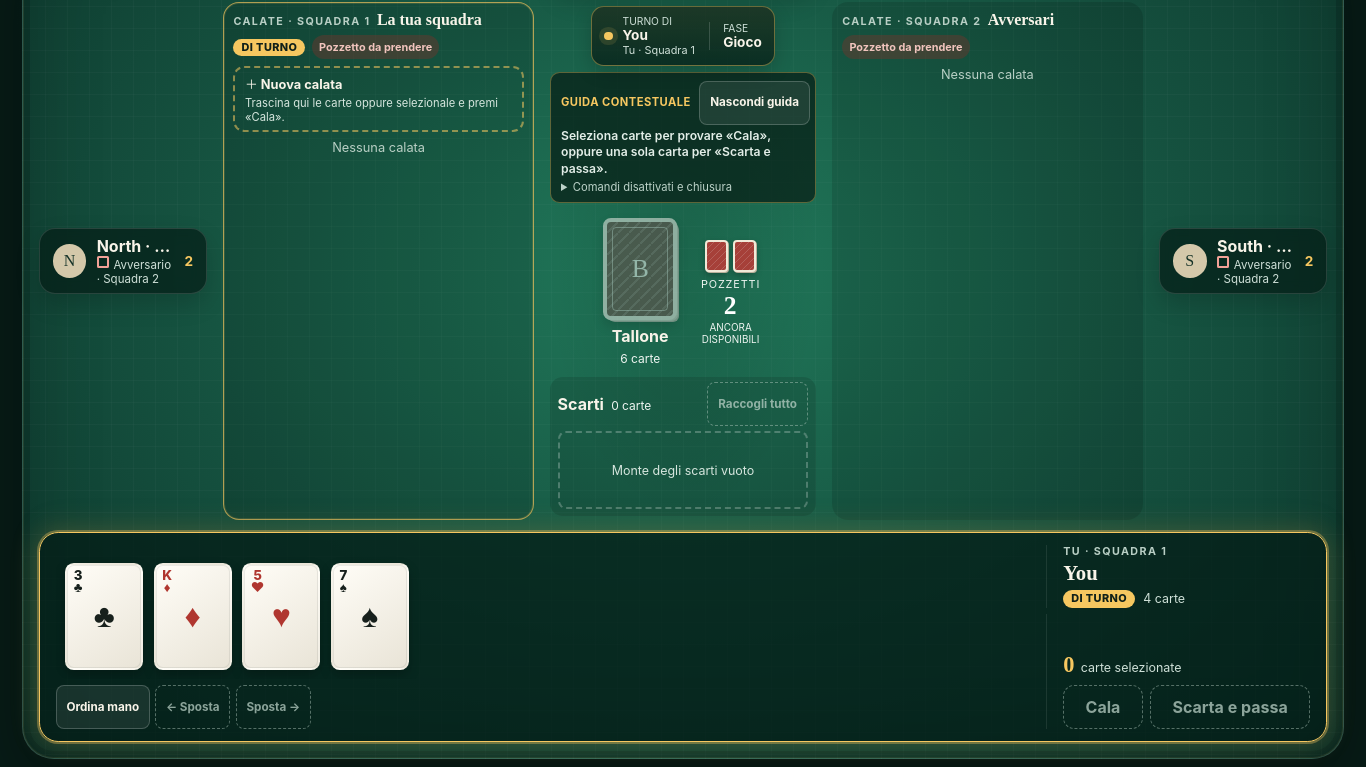
Test: GameTable contextual coach (M36) › explains an invalid meld only after the engine rejected it, keeping the state atomic
(page scrolled)
Expected: the element "Guida contestuale" does not show "Il gioco ha rifiutato questa combinazione e non ha cambiato nulla. Modifica la selezione e riprova; le regole delle calate sono in «Come si gioca».", [550, 72, 816, 204]
Click the button "3 ♣ ♣": (104, 616) [65, 563, 143, 670]
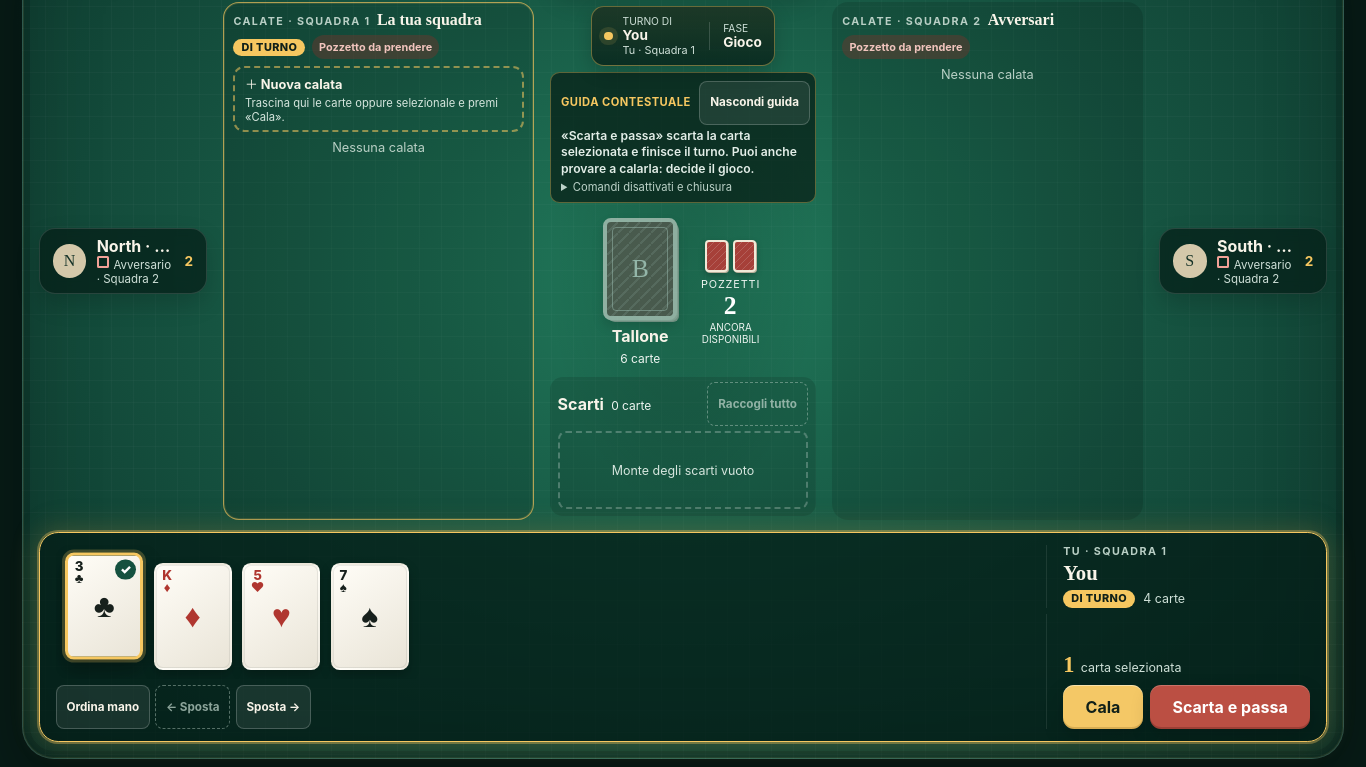
Click the button "5 ♥ ♥": (281, 616) [242, 563, 320, 670]
(page scrolled)
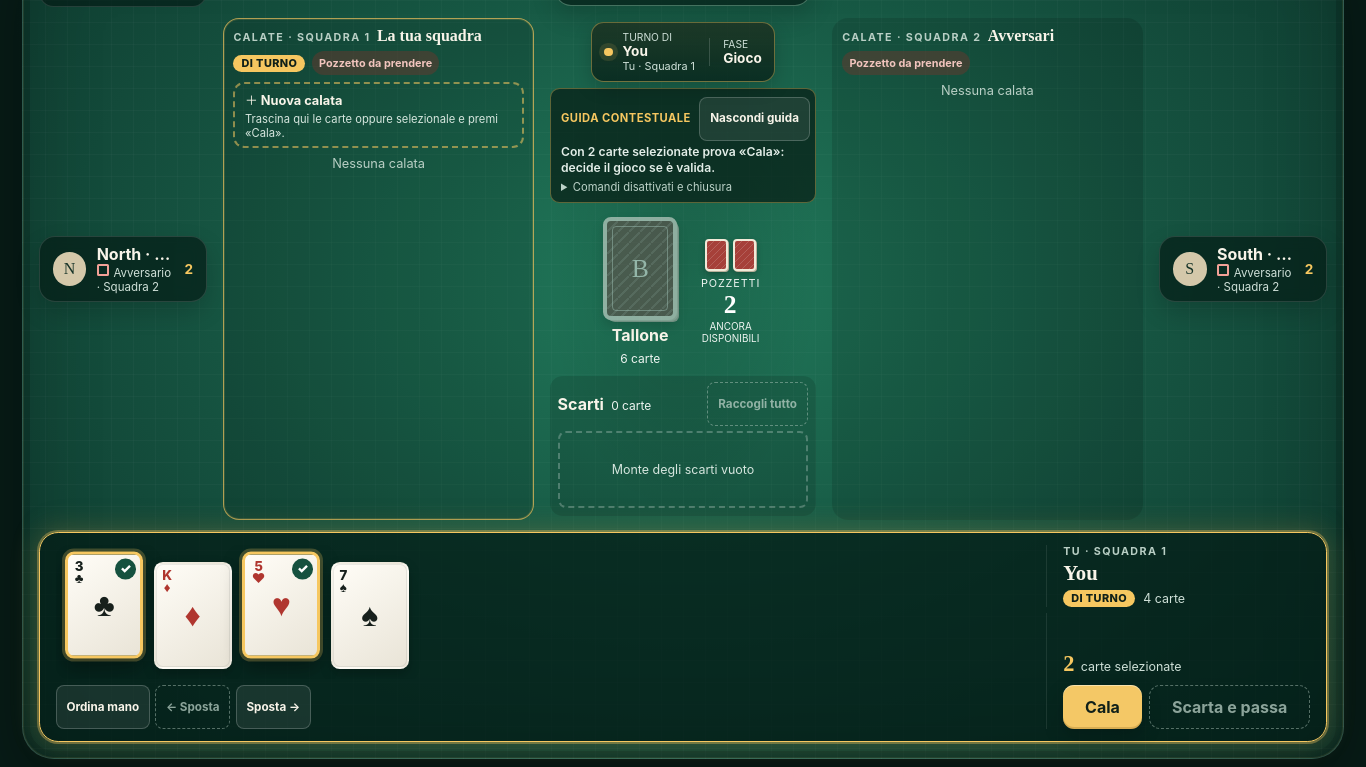
Click the button "7 ♠ ♠": (370, 616) [331, 562, 409, 669]
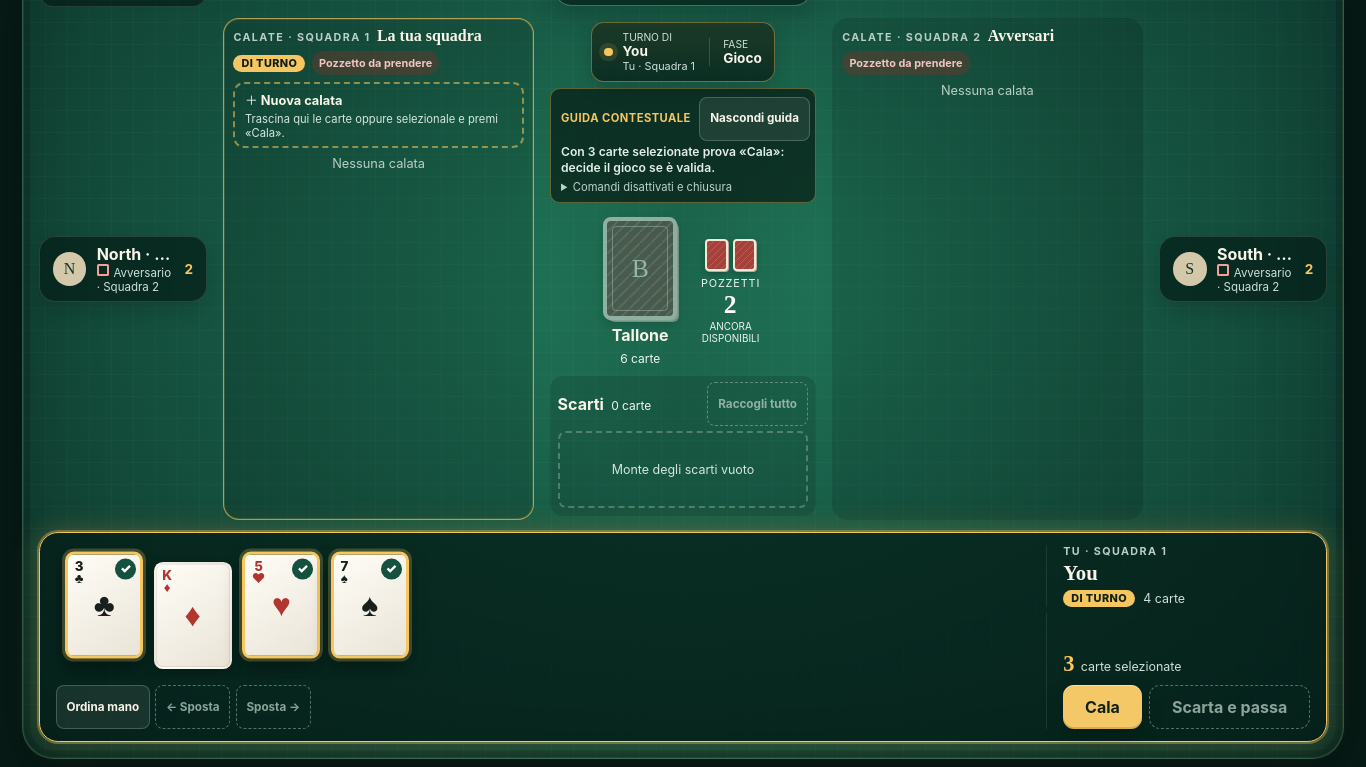
Click the button "Cala": (1103, 707) [1063, 685, 1142, 729]
(page scrolled)
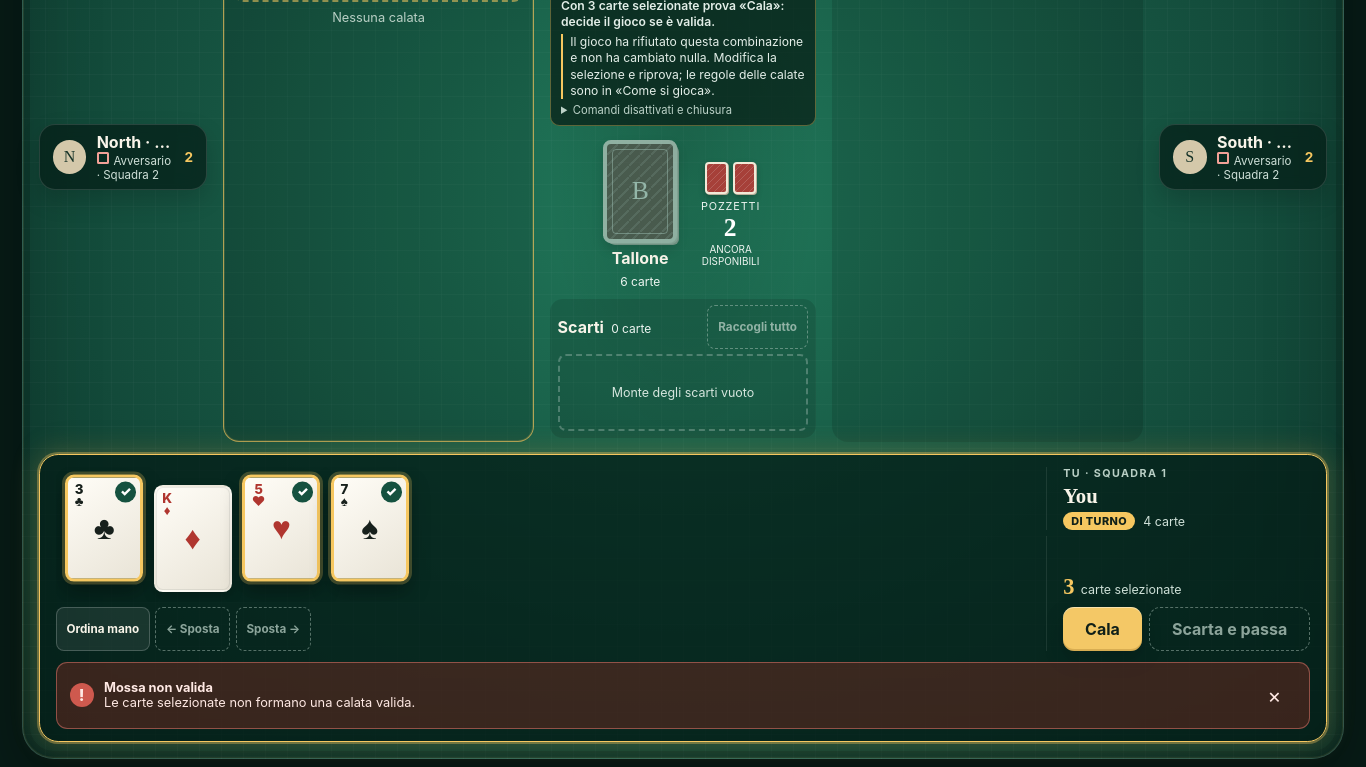
Expected: the text "4 carte" is shown, [1143, 514, 1185, 529]
Result: the message shows "Le carte selezionate non formano una calata valida." at [104, 695, 415, 710]
Result: the element "Guida contestuale" shows "Il gioco ha rifiutato questa combinazione e non ha cambiato nulla. Modifica la selezione e riprova; le regole delle calate sono in «Come si gioca»." at [570, 34, 804, 98]
Click the button named "Chiudi messaggio di errore": (1274, 695) [1252, 673, 1296, 717]
(page scrolled)
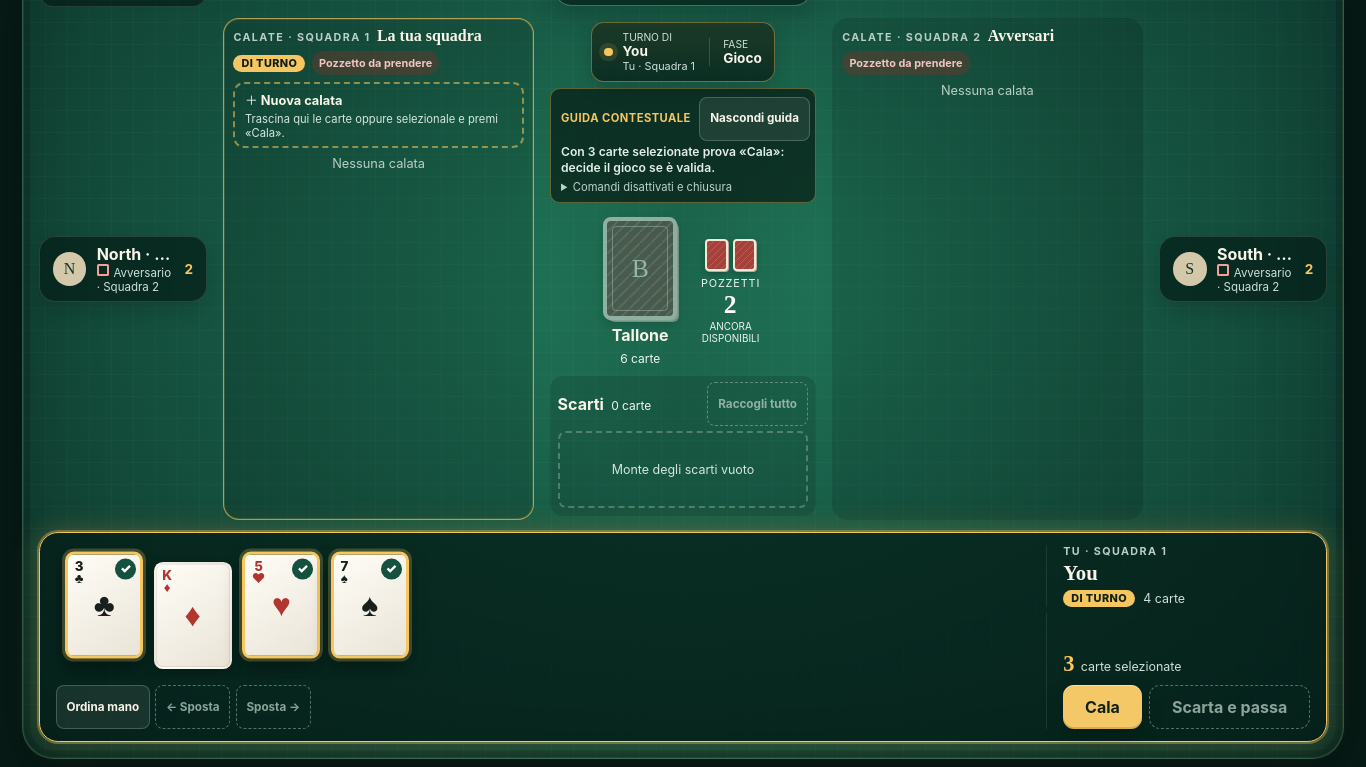
Result: the element "Guida contestuale" no longer shows "Il gioco ha rifiutato questa combinazione e non ha cambiato nulla. Modifica la selezione e riprova; le regole delle calate sono in «Come si gioca»." at [550, 88, 816, 203]
